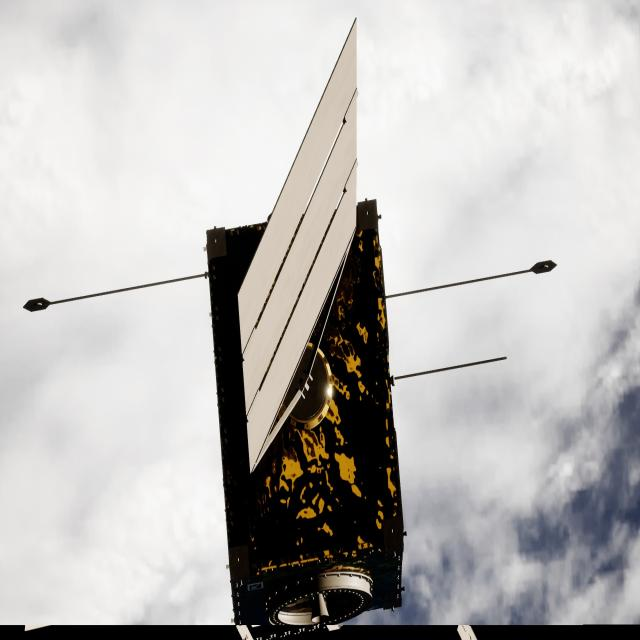satellite: (204, 31, 404, 640)
